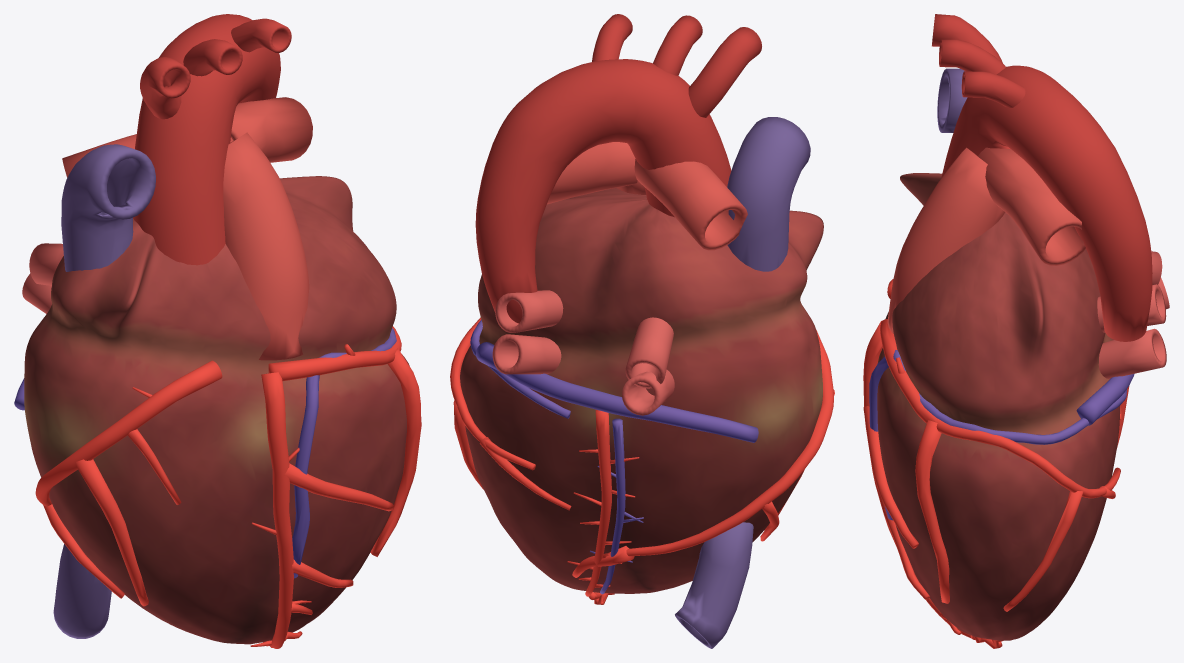
The model's file is aortavision_3d__public_models__heart.glb.
3 views of the same model, side by side, from view 1: azimuth 30°, elevation 25°; view 2: azimuth 150°, elevation 25°; view 3: azimuth 270°, elevation 25° (orthographic). The views are drawn at different scales.
Parts seen in each view (by area): view 1: HeartBody, object 2, object 3, object 4, LAD, RCA, object 22, LCX_OM1, RCA_AM1, LCX, object 5, LAD_D1 (+3 smaller); view 2: HeartBody, object 2, object 4, object 3, object 5, object 22, RCA, object 21, LCX, LCX_PL, LCX_OM2, RCA_PDA; view 3: HeartBody, object 2, object 3, object 22, object 5, LCX, LCX_OM1, LAD_D1, object 4, LCX_OM2, LAD, LAD_D2.
Boxes of the visible parts, x1,y1,x2,y2 form: HeartBody: (24,176,409,644); object 2: (133,14,291,265); object 3: (62,97,312,360); object 4: (53,144,155,638); LAD: (261,372,293,648); RCA: (35,360,222,506); object 22: (14,328,396,578); LCX_OM1: (370,348,421,556); RCA_AM1: (75,459,148,606); LCX: (268,326,401,381); object 5: (22,243,63,313); LAD_D1: (284,463,393,511); HeartBody: (460,188,823,593); object 2: (475,14,761,323); object 4: (675,117,810,648); object 3: (547,142,747,250); object 5: (492,290,674,415); object 22: (470,319,758,594); RCA: (602,330,833,558); object 21: (567,409,639,596); LCX: (450,317,535,470); LCX_PL: (479,437,571,510); LCX_OM2: (453,400,483,489); RCA_PDA: (572,546,634,577); HeartBody: (877,173,1120,640); object 2: (932,14,1152,341); object 3: (887,147,1085,333); object 22: (869,350,1134,520); object 5: (1097,251,1169,378); LCX: (880,319,1120,498); LCX_OM1: (915,420,949,603); LAD_D1: (863,406,918,548); object 4: (937,68,967,132); LCX_OM2: (1003,491,1083,611); LAD: (863,320,1003,648); LAD_D2: (883,509,929,599).
Size of the model in its own units: 2.17 by 3.59 by 1.72.
